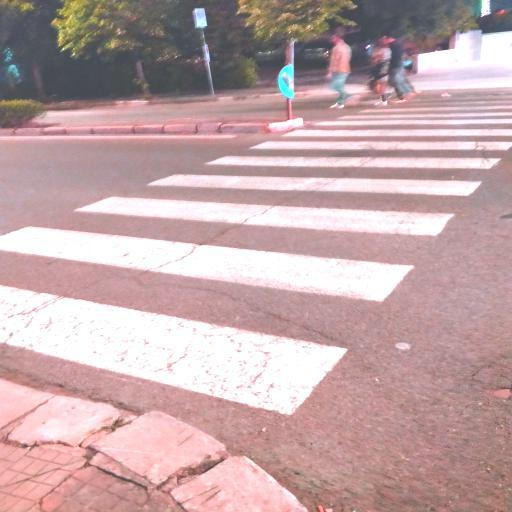crosswalk: (66, 171, 490, 244), (246, 124, 511, 157)
